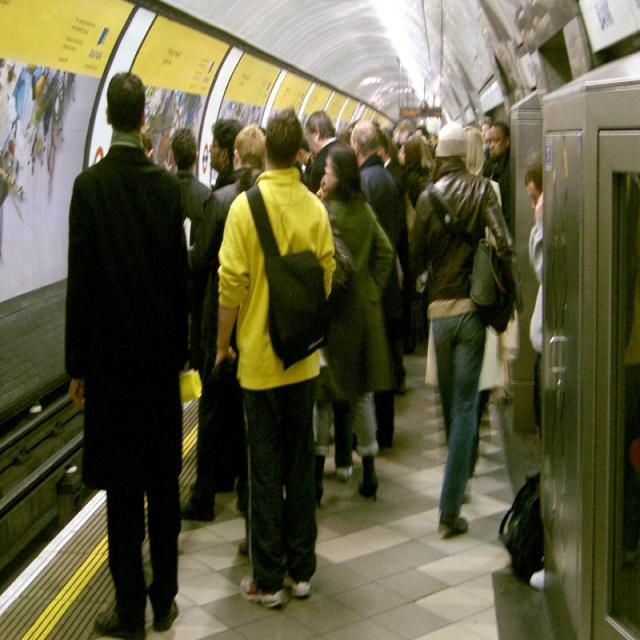body: (64, 68, 194, 639), (215, 108, 336, 611), (405, 120, 520, 540), (190, 122, 270, 526), (313, 140, 395, 510), (348, 119, 404, 453), (0, 58, 77, 215), (522, 154, 544, 442), (358, 101, 434, 177), (171, 124, 213, 244), (199, 115, 247, 211), (458, 125, 508, 208), (298, 108, 339, 194), (484, 120, 512, 233), (144, 86, 203, 126), (128, 124, 158, 160), (310, 170, 336, 206), (297, 139, 311, 174)
